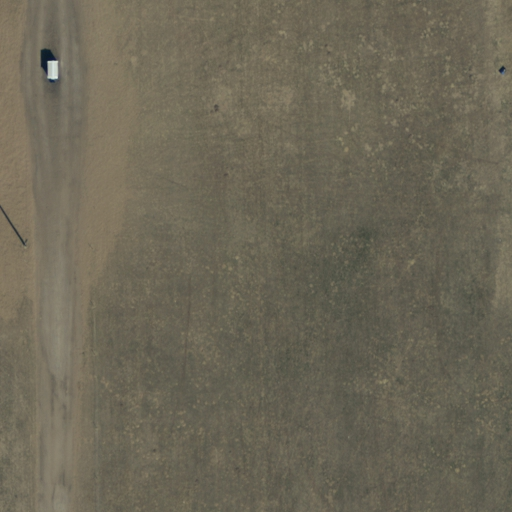DT: (9, 230, 37, 258)
